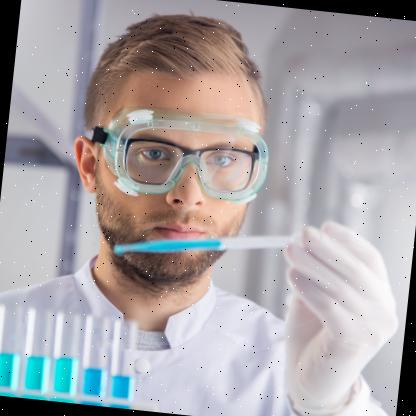oculos: (94, 104, 272, 209)
